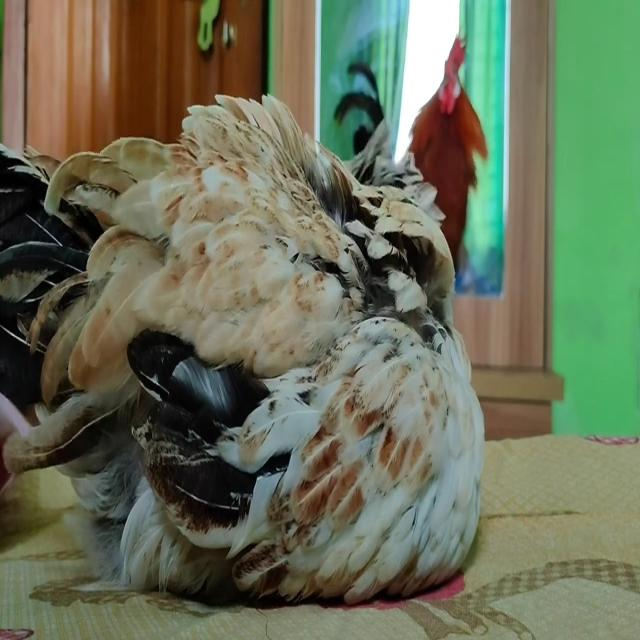self preening: (0, 87, 491, 599)
